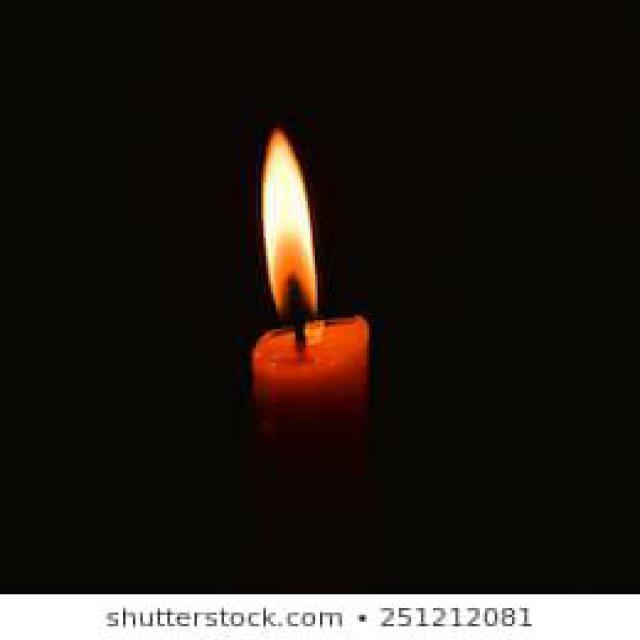Fire: (260, 129, 316, 324)
